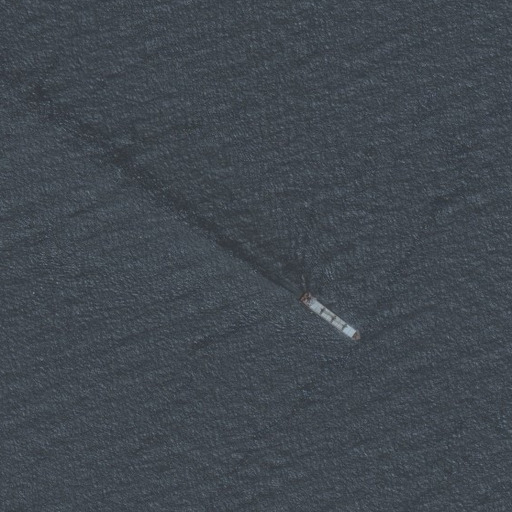ship: (295, 287, 364, 346)
